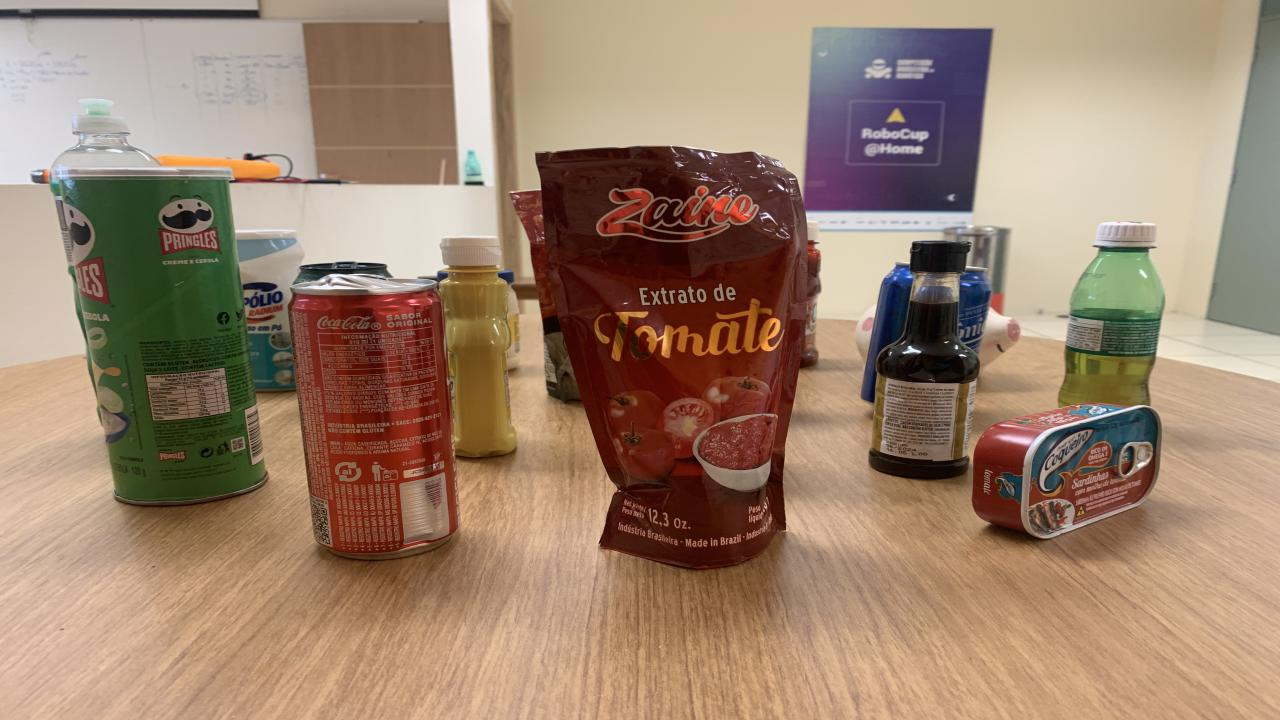Cleaner-Cleanup_Items: (235, 229, 305, 392)
Coke-Drinks: (290, 276, 458, 559)
Detergent-Cleanup_Items: (50, 98, 160, 176)
English_Sauce-Pantry_Items: (870, 242, 980, 478)
Guarana-Drinks: (1058, 221, 1165, 407)
Guarana_Can-Drinks: (295, 261, 390, 283)
Ketchup-Pantry_Items: (800, 221, 822, 368)
Mayonnaise-Pantry_Items: (498, 270, 520, 369), (438, 270, 448, 281)
Mustard-Pantry_Items: (440, 236, 518, 458)
Pig_Safe-Miscellaneous: (978, 309, 1022, 366), (855, 306, 875, 360)
Pringles-Snacks: (52, 169, 265, 504)
Tomato_Sauce-Pantry_Items: (538, 146, 808, 568), (510, 189, 580, 401)
Tonic-Drinks: (862, 262, 912, 401), (958, 268, 992, 352)
Tuna_Can-Pantry_Items: (972, 403, 1160, 538), (932, 356, 938, 360)
